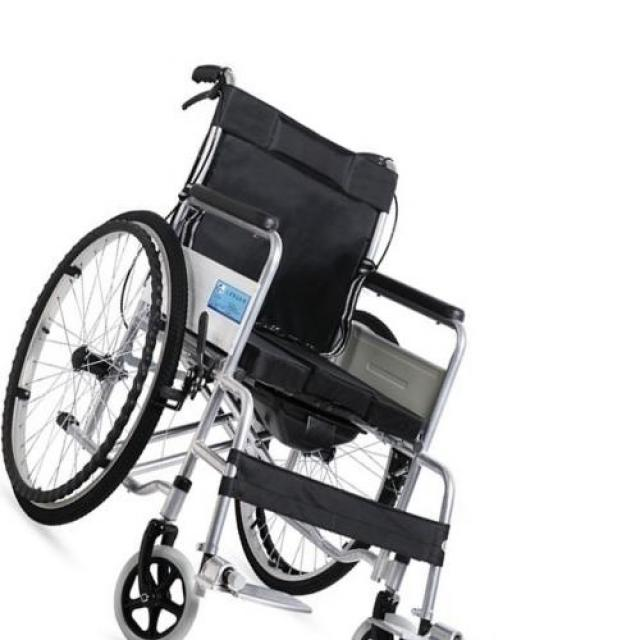wheelchair: (4, 53, 487, 640)
